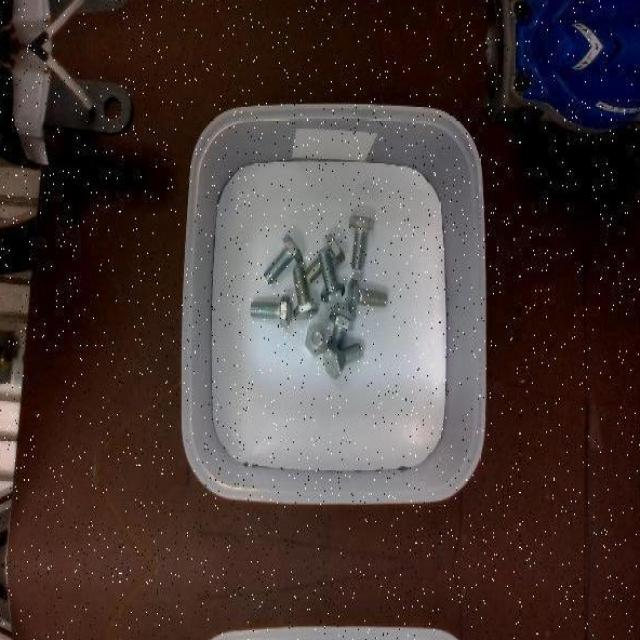screw: (264, 234, 304, 282), (344, 278, 387, 312), (324, 343, 364, 379), (318, 249, 344, 303), (349, 215, 374, 270), (250, 295, 291, 328), (294, 265, 319, 318), (305, 322, 329, 354)
